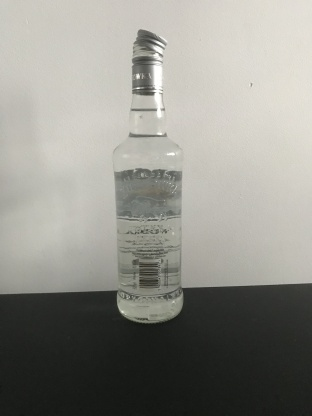nakretka: (130, 26, 168, 95)
